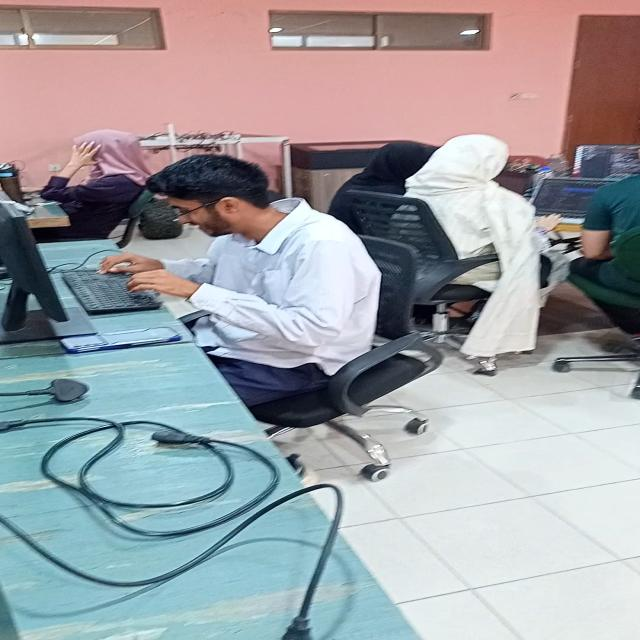dress: (163, 200, 388, 388)
